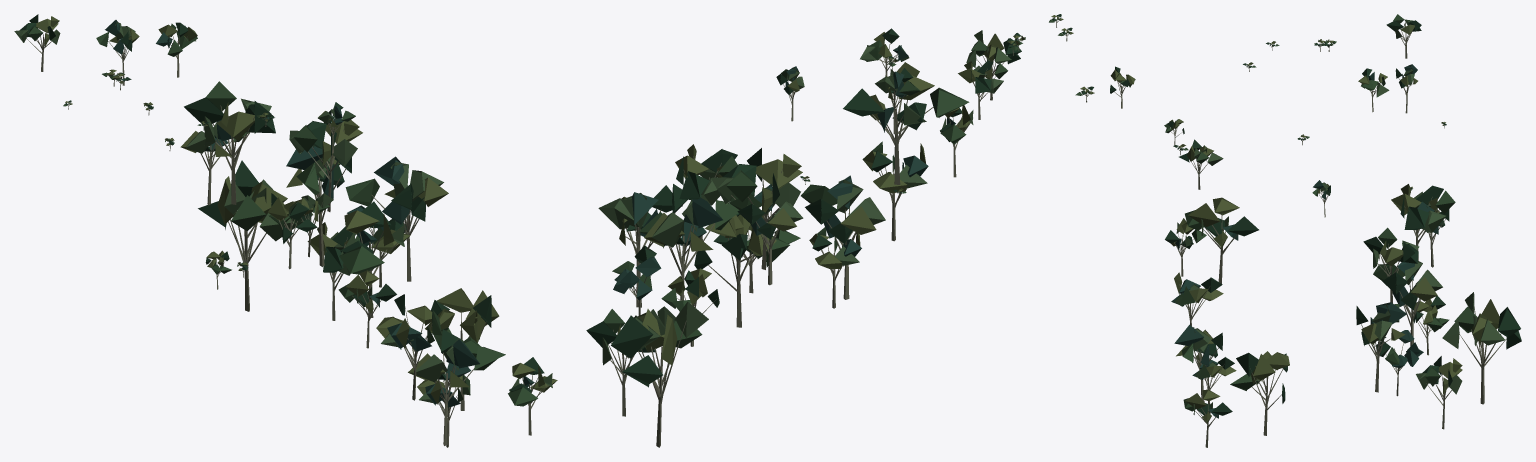
File: forest_25_24.dae
The picture shows the model from 3 angles, left to right: view 1: azimuth 30°, elevation 25°; view 2: azimuth 150°, elevation 25°; view 3: azimuth 270°, elevation 25°; orthographic projection. The views are drawn at different scales.
Visible parts, largest first — view 1: Node; view 2: Node; view 3: Node.
Part boxes in pixels (<box>): Node: <box>14,14,557,447</box>; Node: <box>586,14,1135,447</box>; Node: <box>1164,14,1521,447</box>.
Bounding box in the file's own units: 11.21 × 11.51 × 10.68.
